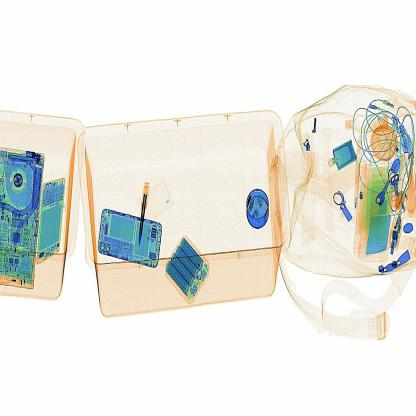gun: (133, 171, 159, 255)
